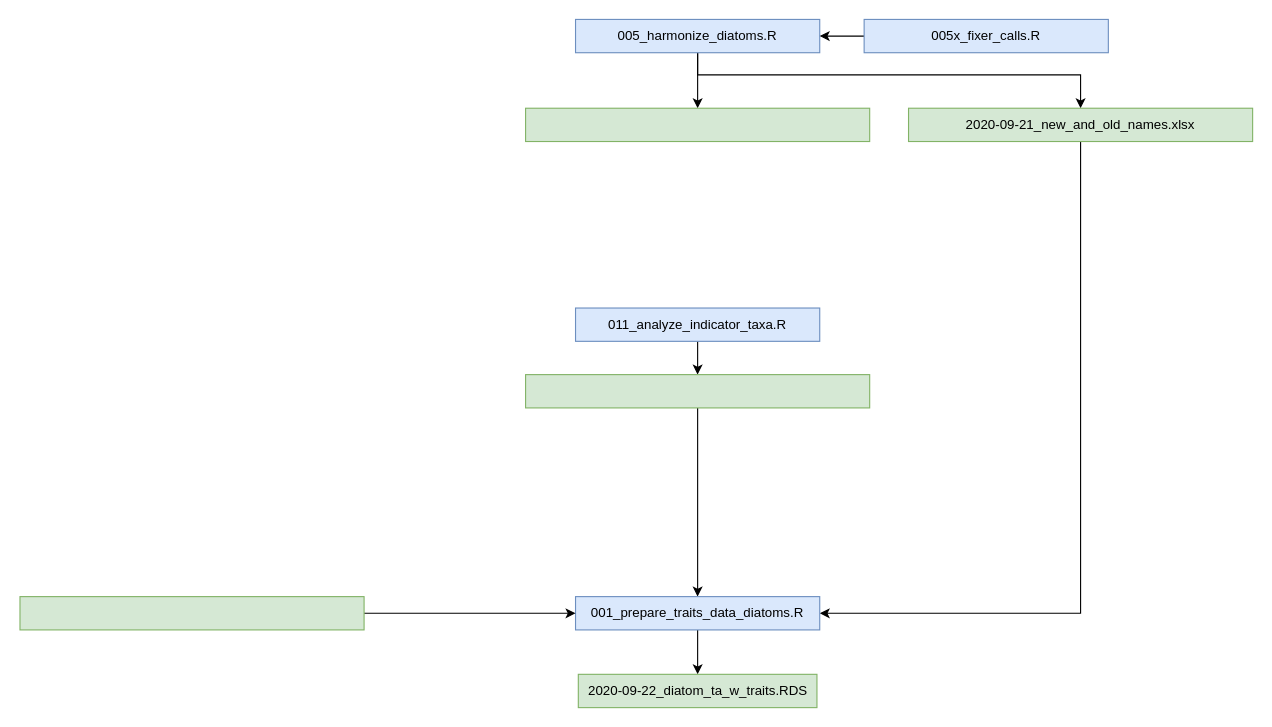
Image size: 1272x727. Some labels were removed from this diagram. The centre of each missing label's shape, as x and y in pixels:
"005_2020-08-17_clean_diatoms_observations.RDS" belongs at point (697, 124).
"011_2020-09-21_daitom_typical_assemblages.RDS" belongs at point (697, 391).
"2019-02-12-Diat.barcode-release-version 7.1.xlsx" belongs at point (191, 613).
